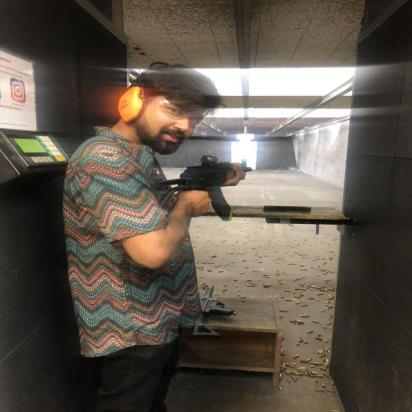Gun: (147, 154, 253, 223), (191, 283, 236, 341)
